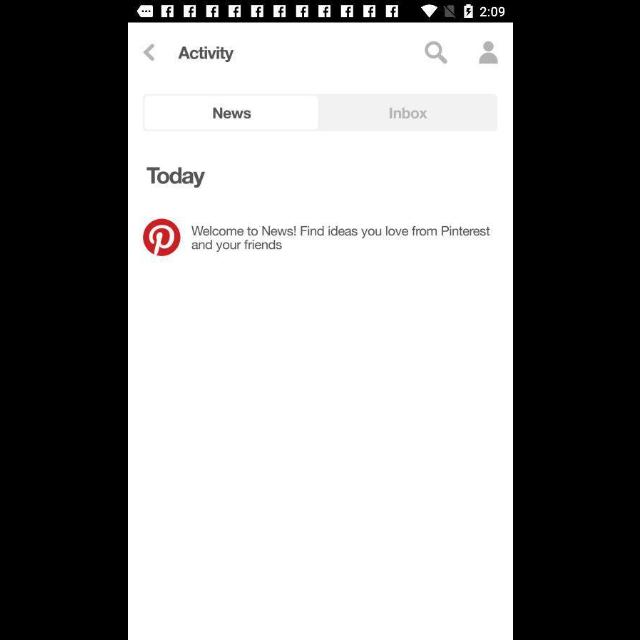icon: (423, 42, 447, 64), (478, 42, 498, 64), (143, 44, 155, 62)
image: (142, 219, 180, 257)
text: (190, 226, 490, 254), (147, 168, 206, 188), (178, 47, 234, 63)
textbutton: (318, 95, 498, 132), (142, 95, 318, 132)
toolbar: (128, 23, 512, 88)
uppertaskbar: (128, 1, 512, 23)
